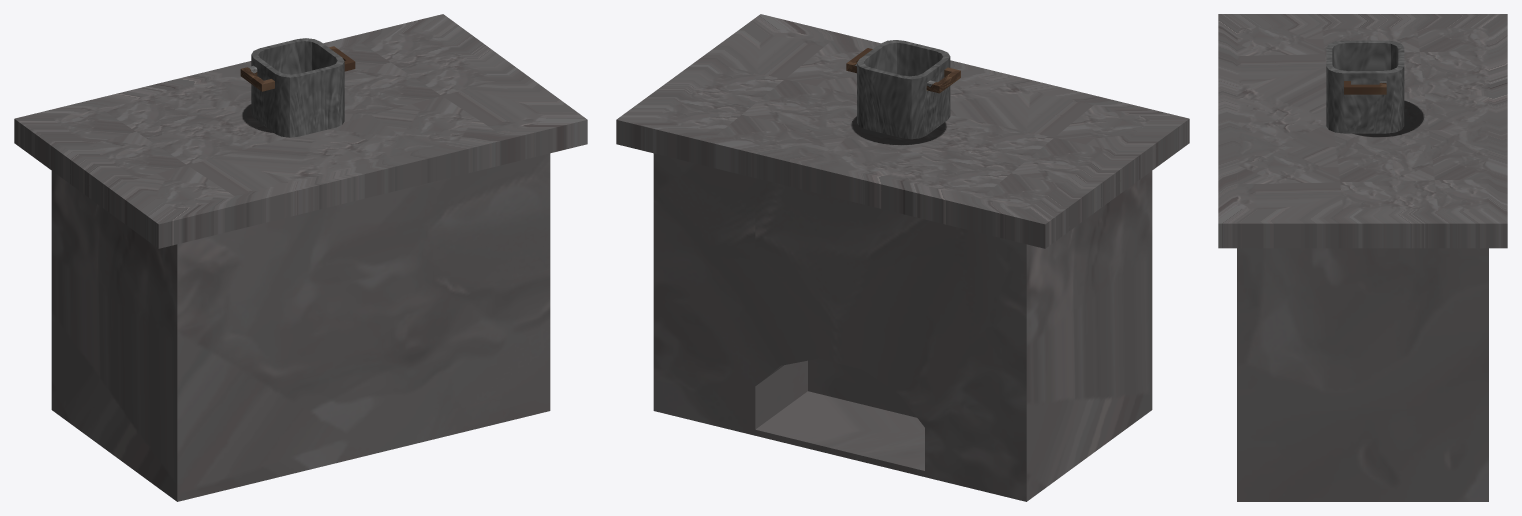
The model's file is stovewpot_kitchen.fbx.
The picture shows the model from 3 angles, left to right: view 1: azimuth 30°, elevation 25°; view 2: azimuth 150°, elevation 25°; view 3: azimuth 270°, elevation 25°; orthographic projection.
Visible parts, largest first — view 1: stove, pot; view 2: stove, pot; view 3: stove, pot.
Part boxes in pixels (x1,y1,x2,y2): stove: [14, 14, 587, 501]; pot: [240, 38, 355, 137]; stove: [616, 14, 1189, 501]; pot: [846, 40, 960, 139]; stove: [1218, 14, 1507, 501]; pot: [1326, 40, 1404, 133].
Bounding box in the file's own units: 159 × 125 × 92.84.
